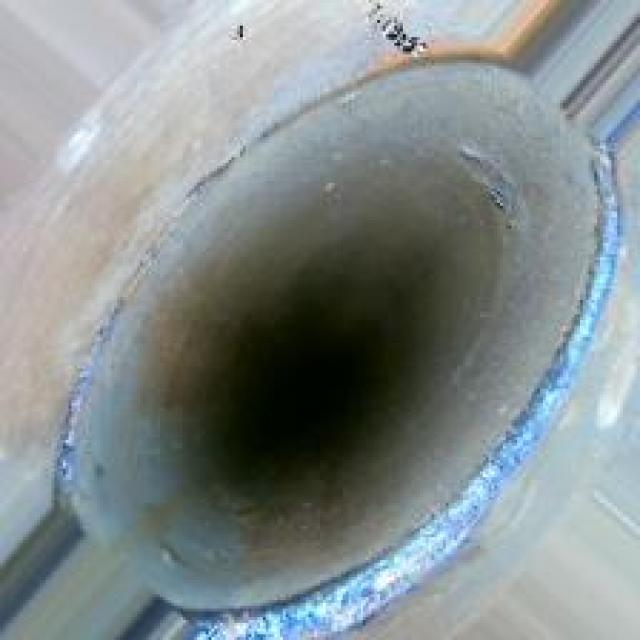joint: (66, 57, 608, 620)
